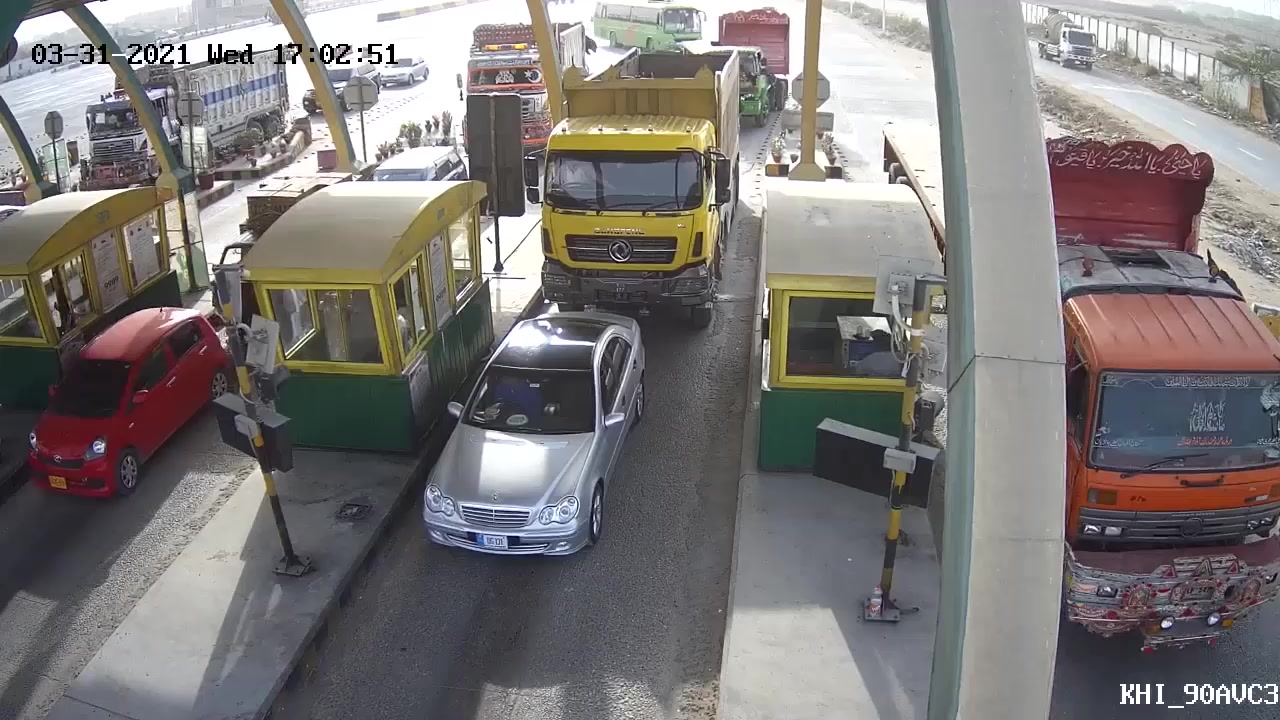F1: (409, 304, 659, 576)
F5: (528, 38, 750, 334)
